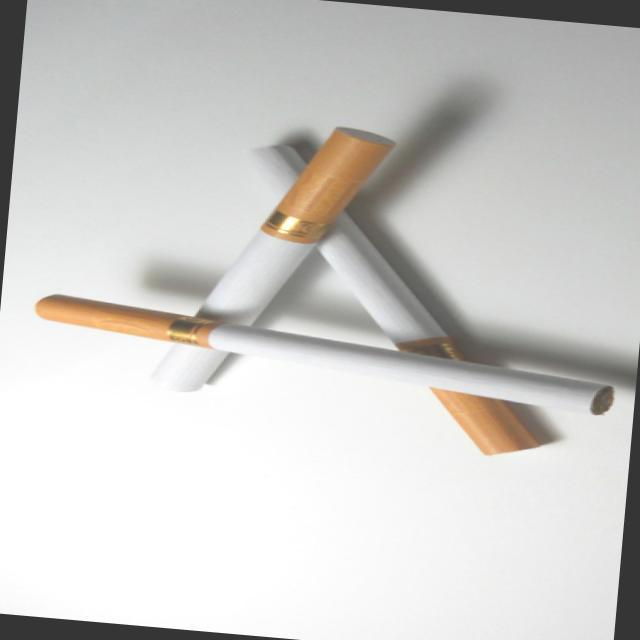cigarette: (16, 287, 620, 424)
